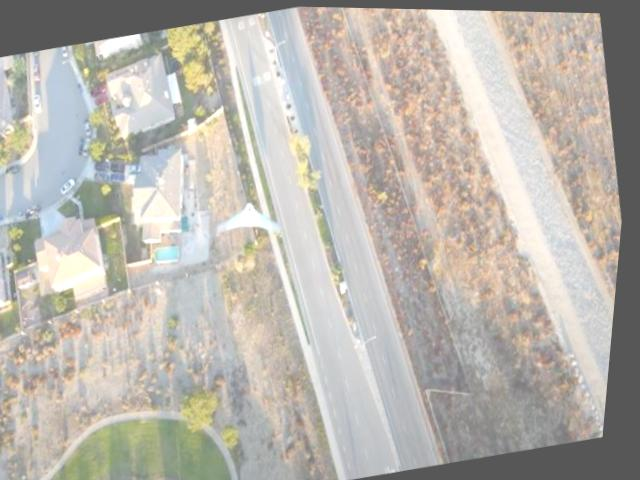iha: (213, 189, 291, 240)
